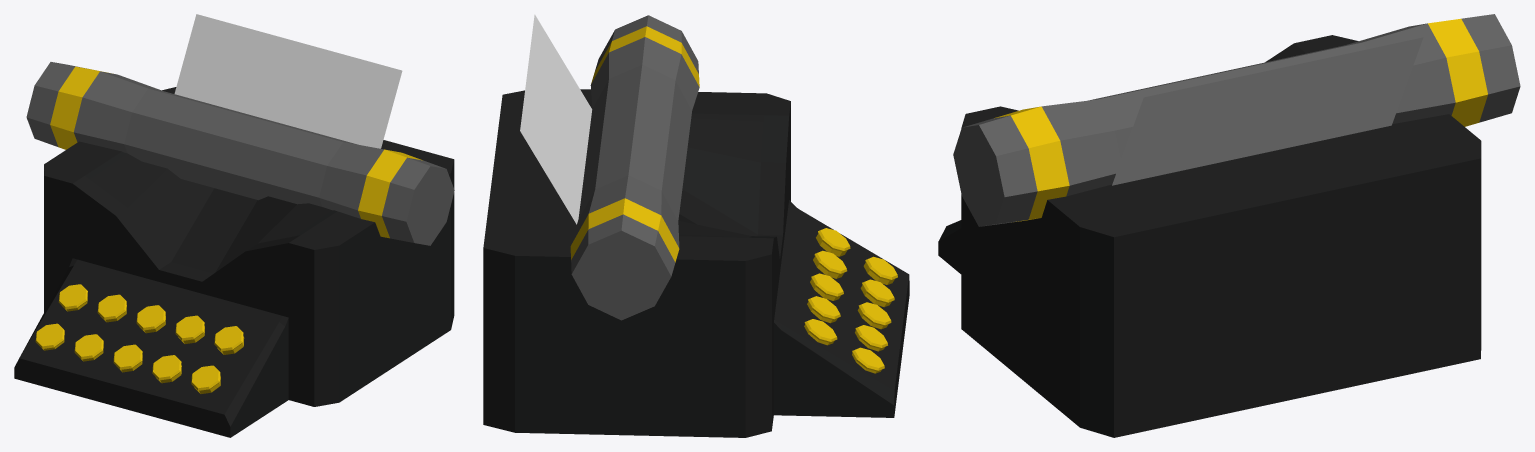
The model's file is Obj2-MaquinaEscribir.glb.
3 renders of one model, left to right at view 1: azimuth 30°, elevation 25°; view 2: azimuth 150°, elevation 25°; view 3: azimuth 270°, elevation 25°, orthographic. The views are drawn at different scales.
Parts seen in each view (by area): view 1: Cube.750, Cube.749, Plane.021, Cube.748; view 2: Cube.750, Cube.749, Plane.021, Cube.748; view 3: Cube.750, Cube.749, Plane.021.
Part boxes in pixels (x1=…): Cube.750: x1=14, y1=87, x2=454, y2=437; Cube.749: x1=26, y1=62, x2=454, y2=245; Plane.021: x1=174, y1=14, x2=402, y2=148; Cube.748: x1=35, y1=284, x2=244, y2=393; Cube.750: x1=483, y1=89, x2=909, y2=437; Cube.749: x1=570, y1=15, x2=699, y2=320; Plane.021: x1=520, y1=14, x2=592, y2=224; Cube.748: x1=804, y1=228, x2=897, y2=373; Cube.750: x1=938, y1=35, x2=1481, y2=437; Cube.749: x1=953, y1=14, x2=1520, y2=226; Plane.021: x1=1112, y1=37, x2=1423, y2=185.
Size of the model in its own units: 0.5176 by 0.3102 by 0.5186.
